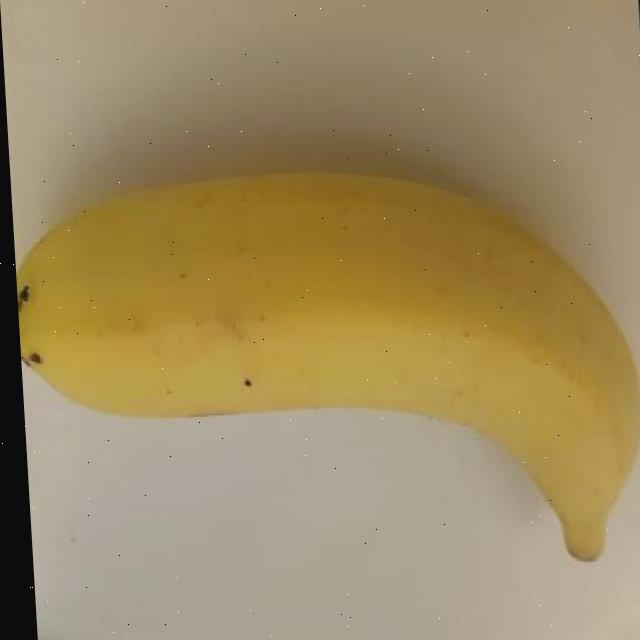banana: (9, 155, 640, 574)
